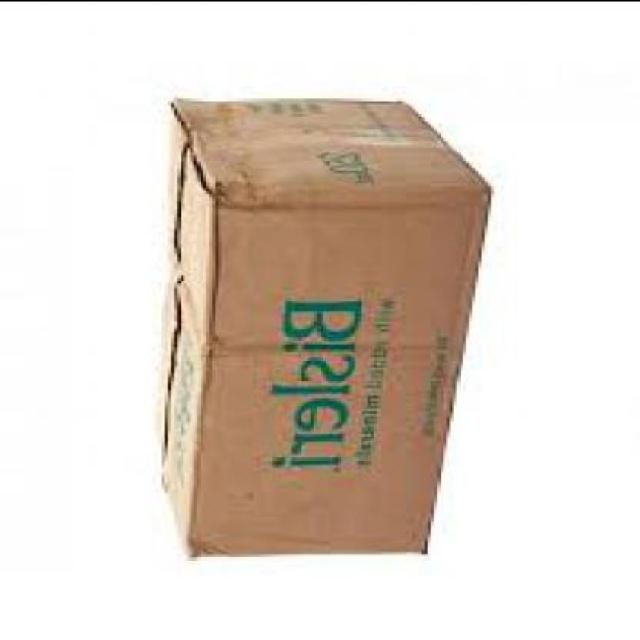CARDBOARD: (155, 95, 491, 550)
